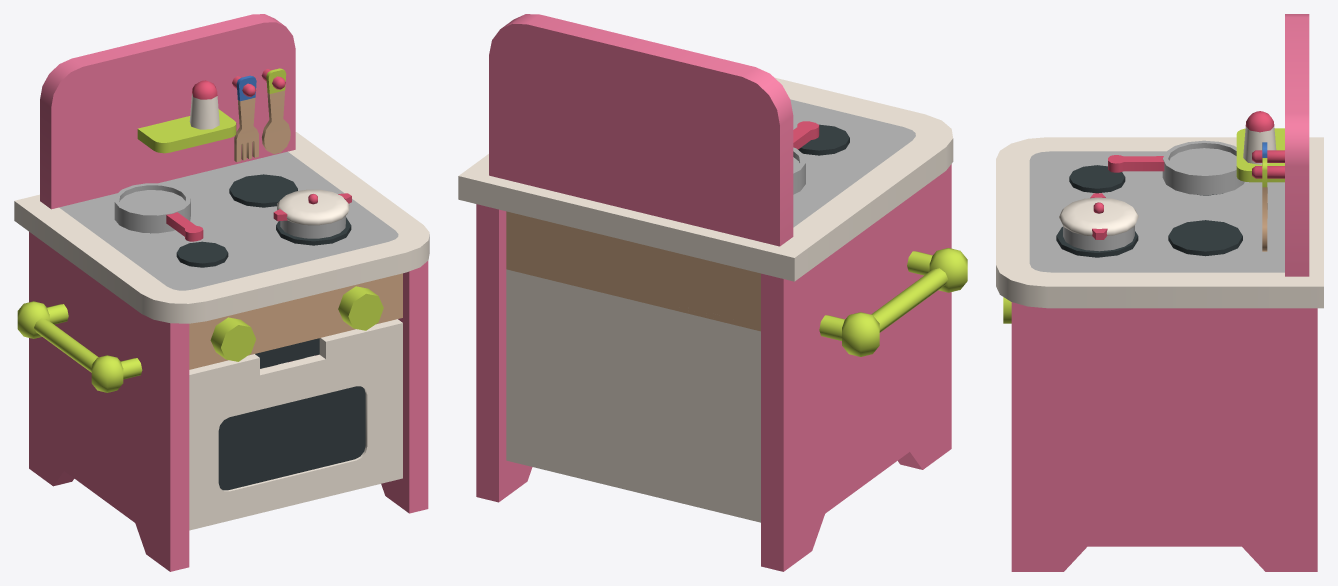
File: Stove_01.fbx
3 renders of one model, left to right at view 1: azimuth 30°, elevation 25°; view 2: azimuth 150°, elevation 25°; view 3: azimuth 270°, elevation 25°, orthographic. The views are drawn at different scales.
Visible parts, largest first — view 1: Stove_01, Oven_01_Door, Oven_01_Pan, Stove_01_Dish_Lid, Stove_01_Spoon, Stove_01_Fork, Oven_Spice_01, Stove_01_Dish; view 2: Stove_01, Oven_01_Pan; view 3: Stove_01, Oven_01_Pan, Stove_01_Dish_Lid, Oven_Spice_01, Stove_01_Dish, Stove_01_Spoon.
Boxes of the visible parts, <box> form: Stove_01: <box>14,14,429,571</box>; Oven_01_Door: <box>189,319,402,530</box>; Oven_01_Pan: <box>114,183,203,241</box>; Stove_01_Dish_Lid: <box>273,189,351,225</box>; Stove_01_Spoon: <box>262,68,290,154</box>; Stove_01_Fork: <box>234,75,258,162</box>; Oven_Spice_01: <box>189,80,219,129</box>; Stove_01_Dish: <box>280,216,345,238</box>; Stove_01: <box>458,14,967,571</box>; Oven_01_Pan: <box>793,121,819,194</box>; Stove_01: <box>996,14,1323,571</box>; Oven_01_Pan: <box>1108,140,1244,195</box>; Stove_01_Dish_Lid: <box>1059,193,1138,239</box>; Oven_Spice_01: <box>1243,111,1276,164</box>; Stove_01_Dish: <box>1063,226,1134,251</box>; Stove_01_Spoon: <box>1262,158,1267,251</box>.
Bounding box in the file's own units: 0.7013 × 0.8549 × 0.5802.
